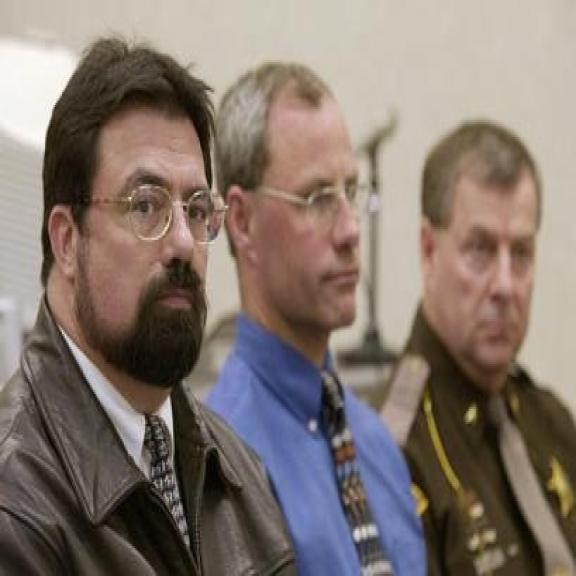face: (39, 106, 212, 377), (219, 89, 364, 342), (418, 160, 544, 385)
